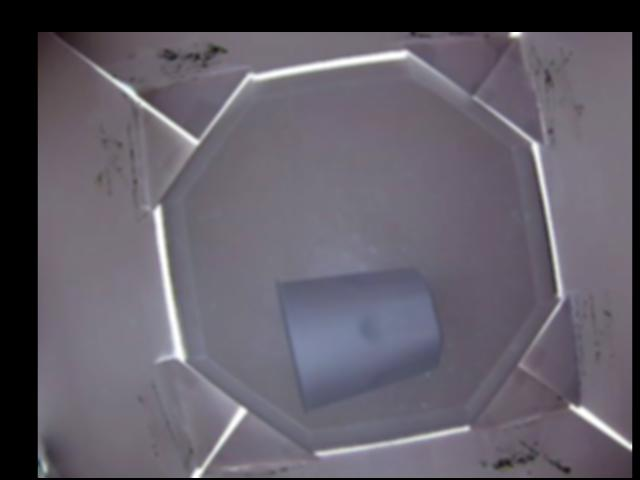Cup: (277, 266, 443, 417)
